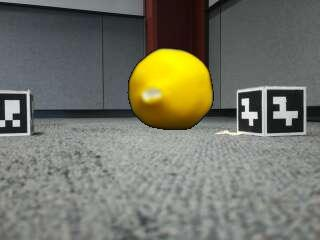lemon: (128, 50, 211, 131)
